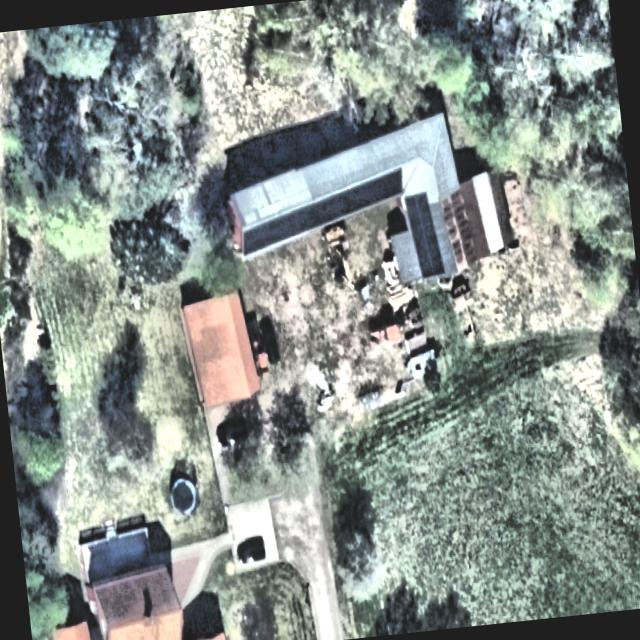roof_pv: (402, 187, 448, 287), (240, 205, 318, 255), (304, 184, 371, 224), (362, 162, 409, 208)
